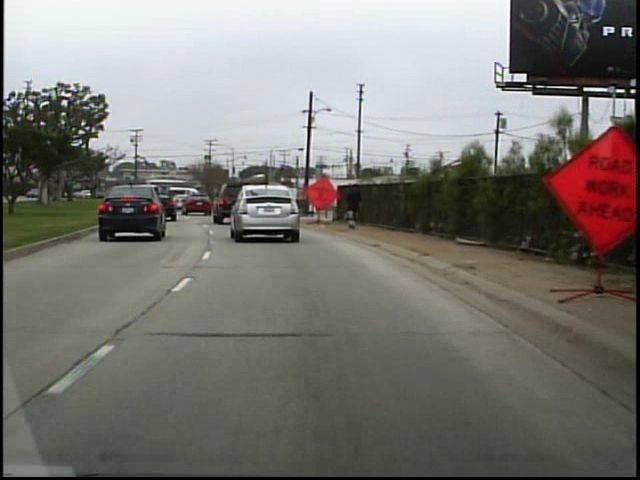person: (342, 179, 367, 231)
